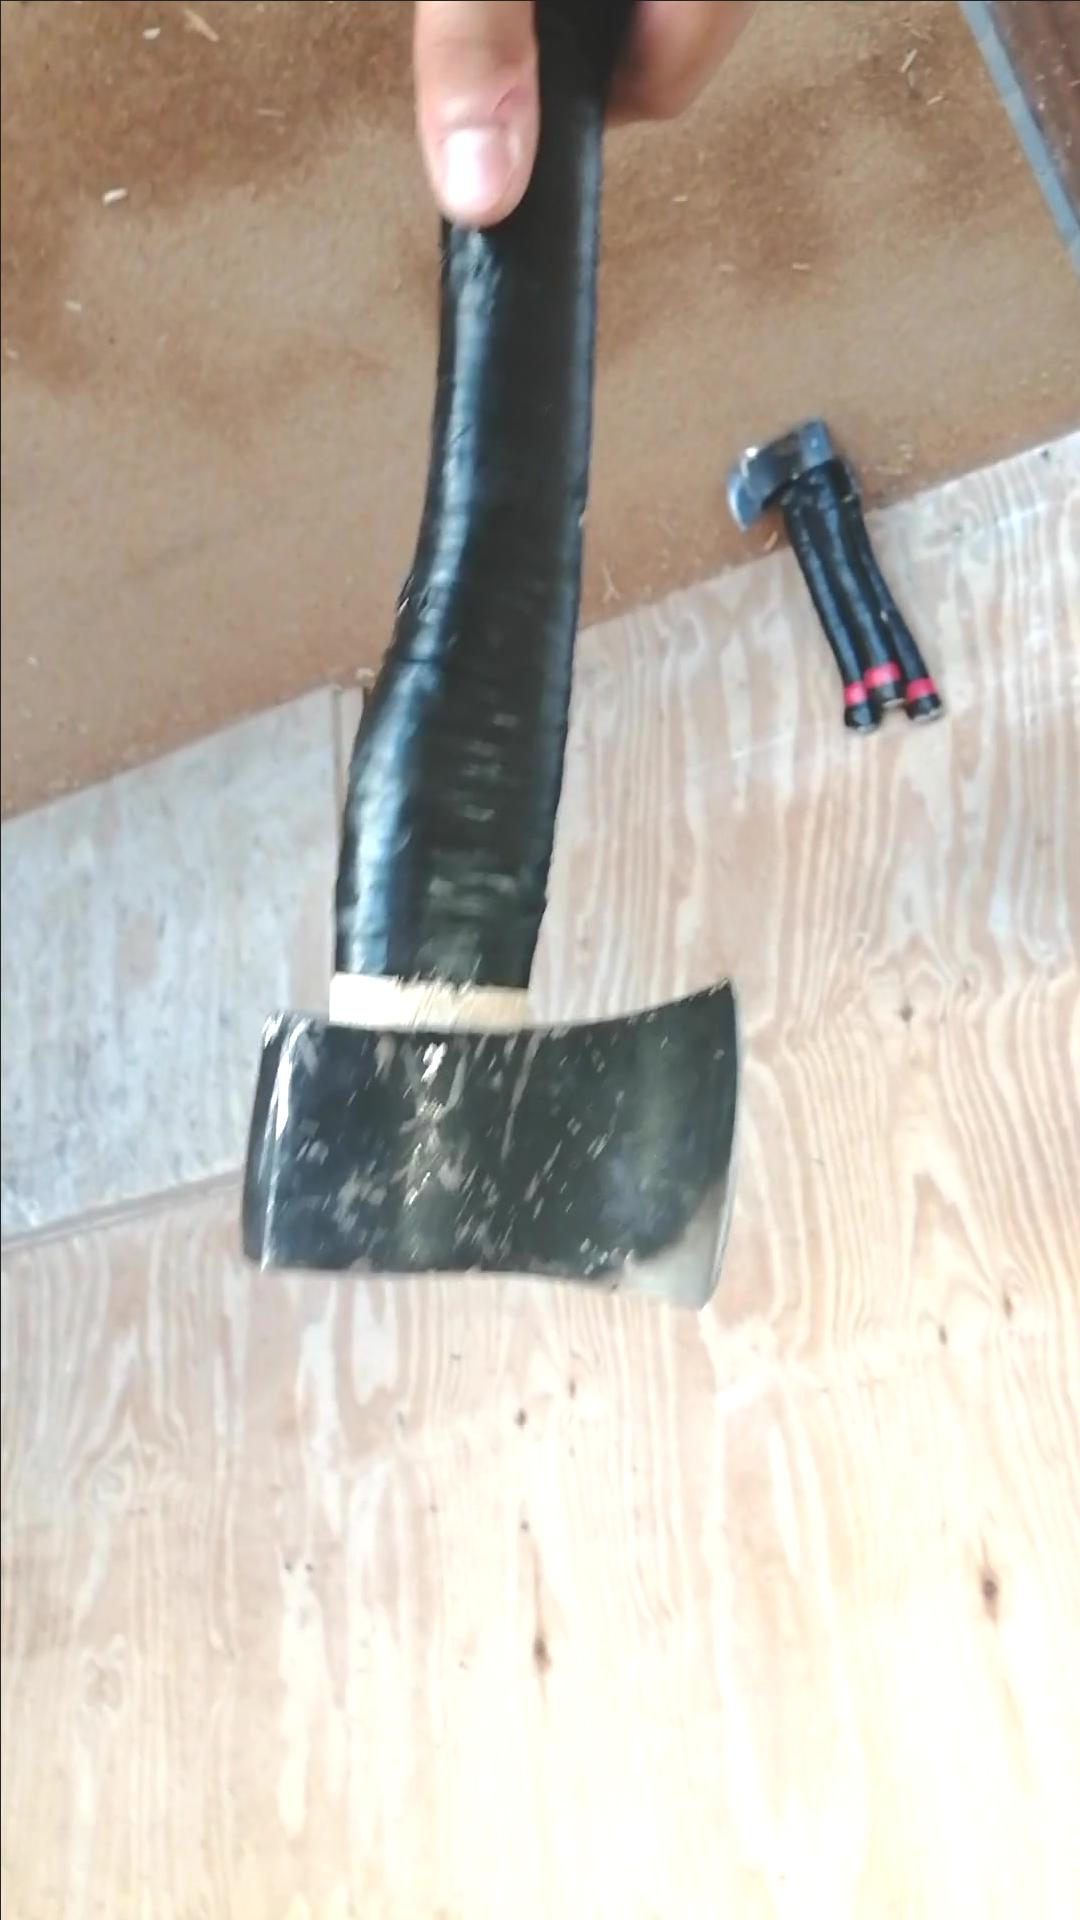Hand Axe: (236, 968, 742, 1315)
